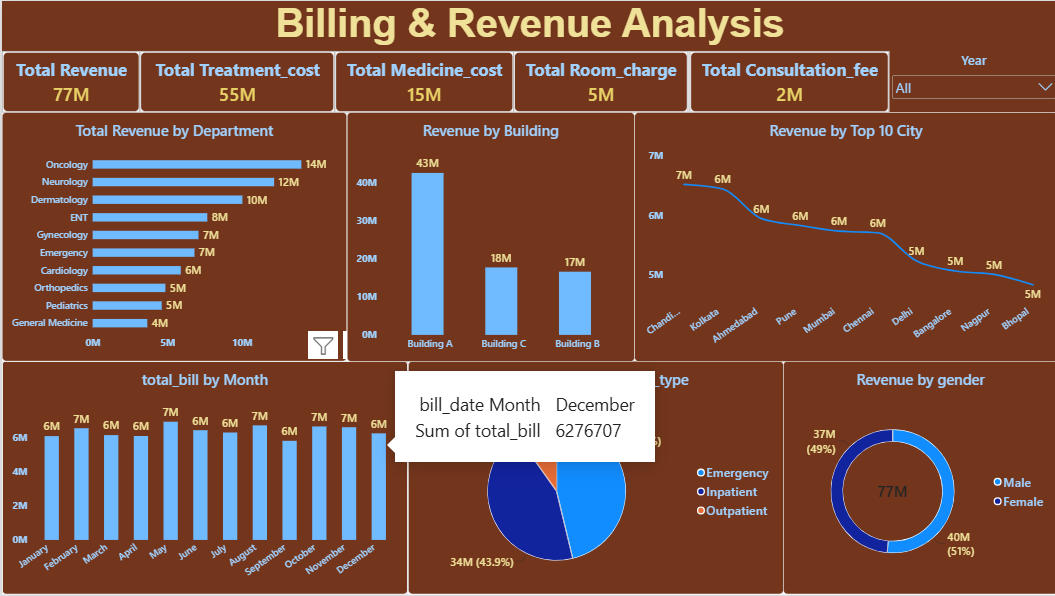

The dashboard page shown, as its layout file describes it:
{"tool":"powerbi","page":{"name":"Page 2","canvas":[1920,1080],"ordinal":1},"visuals":[{"type":"textbox","box":[0,0,1920,91.1],"z":0},{"type":"cardVisual","fields":{"Data":["Sum(billing.total_bill)"]},"box":[0,91.1,251.1,112.6],"z":1000},{"type":"cardVisual","fields":{"Data":["Sum(billing.room_charges)"]},"box":[900.9,90.9,318.2,112.7],"z":2000},{"type":"cardVisual","fields":{"Data":["Sum(billing.consultation_fee)"]},"box":[1219.1,90.9,363.6,112.7],"z":3000},{"type":"cardVisual","fields":{"Data":["Sum(billing.medicine_cost)"]},"box":[574.5,90.9,326.4,112.7],"z":4000},{"type":"cardVisual","fields":{"Data":["Sum(billing.treatment_cost)"]},"box":[250.9,90.9,323.6,112.7],"z":5000},{"type":"clusteredBarChart","title":"Total Revenue by Department","fields":{"Category":["departments.department_name"],"Y":["Sum(billing.total_bill)"]},"box":[0,202.5,627.5,452.5],"z":6000},{"type":"clusteredColumnChart","title":"total_bill by Month","fields":{"Category":["billing.bill_date.Variation.Date Hierarchy.Month"],"Y":["Sum(billing.total_bill)"]},"box":[0,655.2,737.9,424.1],"z":7000},{"type":"pieChart","title":"Revenue by Admission_type","fields":{"Category":["admissions.admission_type"],"Y":["Sum(billing.total_bill)"]},"box":[737.9,655.2,682,424],"z":8000},{"type":"clusteredColumnChart","title":" Revenue by Building","fields":{"Category":["departments.building"],"Y":["Sum(billing.total_bill)"]},"box":[626.8,201.8,523.2,453.6],"z":9000},{"type":"slicer","title":"Year","fields":{"Values":["billing.bill_date.Variation.Date Hierarchy.Year","billing.bill_date.Variation.Date Hierarchy.Month"]},"box":[1584,90,336,112],"z":10000},{"type":"donutChart","title":"Revenue by gender","fields":{"Category":["patients.gender"],"Y":["Sum(billing.total_bill)"]},"box":[1420.7,655.2,500,424.1],"z":11000},{"type":"lineChart","title":"Revenue by Top 10 City","fields":{"Category":["patients.city"],"Y":["Sum(billing.total_bill)"]},"box":[1150,201.8,769.6,453.6],"z":12000}]}

Visuals, with their boxes in screenshot pixels (x1, y1, x2, y2), scaled from the page's 1920x1080 canvas onto the 1055x596 screenshot:
textbox: <bbox>0, 0, 1054, 50</bbox>
cardVisual - Sum(billing.total_bill): <bbox>0, 50, 138, 112</bbox>
cardVisual - Sum(billing.room_charges): <bbox>495, 50, 670, 112</bbox>
cardVisual - Sum(billing.consultation_fee): <bbox>670, 50, 870, 112</bbox>
cardVisual - Sum(billing.medicine_cost): <bbox>316, 50, 495, 112</bbox>
cardVisual - Sum(billing.treatment_cost): <bbox>138, 50, 316, 112</bbox>
"Total Revenue by Department" clusteredBarChart: <bbox>0, 112, 345, 361</bbox>
"total_bill by Month" clusteredColumnChart: <bbox>0, 362, 405, 595</bbox>
"Revenue by Admission_type" pieChart: <bbox>405, 362, 780, 595</bbox>
" Revenue by Building" clusteredColumnChart: <bbox>344, 111, 632, 362</bbox>
"Year" slicer: <bbox>870, 50, 1054, 111</bbox>
"Revenue by gender" donutChart: <bbox>781, 362, 1054, 595</bbox>
"Revenue by Top 10 City" lineChart: <bbox>632, 111, 1054, 362</bbox>
